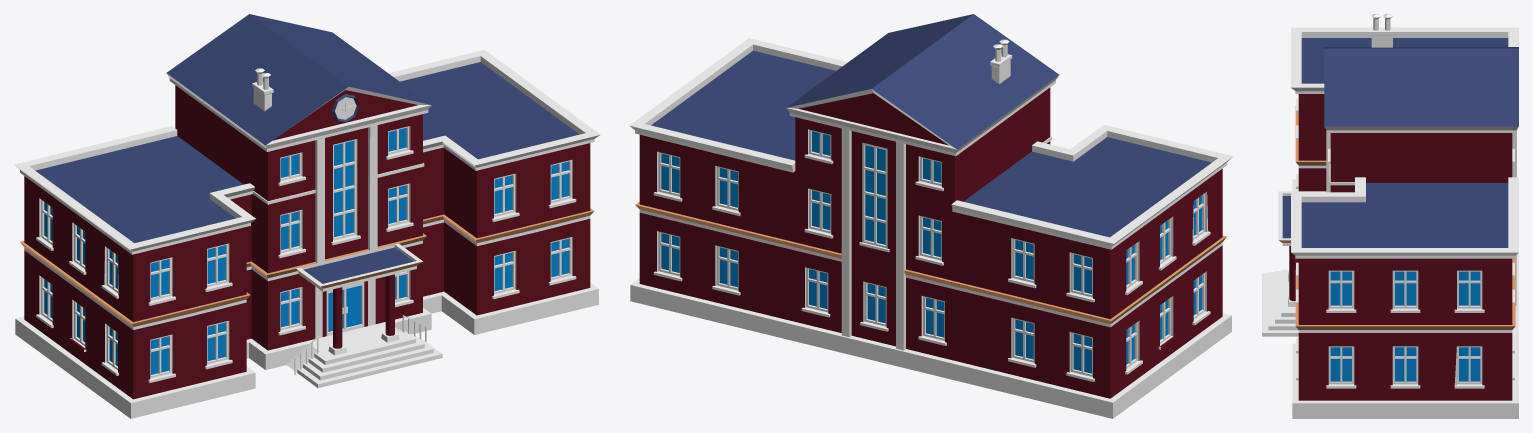
File: Building_27.fbx
3 renders of one model, left to right at view 1: azimuth 30°, elevation 25°; view 2: azimuth 150°, elevation 25°; view 3: azimuth 270°, elevation 25°, orthographic. The views are drawn at different scales.
Visible parts, largest first — view 1: building-school.001, building-school; view 2: building-school.001, building-school; view 3: building-school.001, building-school.
Boxes of the visible parts, x1,y1,x2,y2 form: building-school.001: (14,14,600,326); building-school: (15,216,598,418); building-school.001: (629,14,1233,324); building-school: (630,209,1231,418); building-school.001: (1278,14,1518,329); building-school: (1262,165,1518,418).
Bounding box in the file's own units: 6.25 × 3.44 × 3.01.
